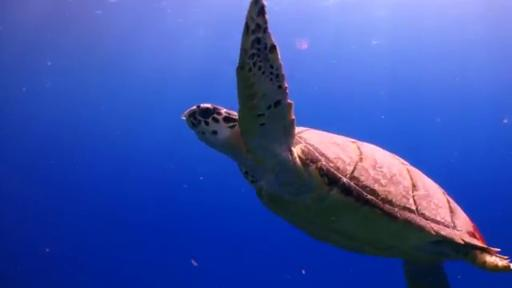Fish: (184, 0, 511, 287)
